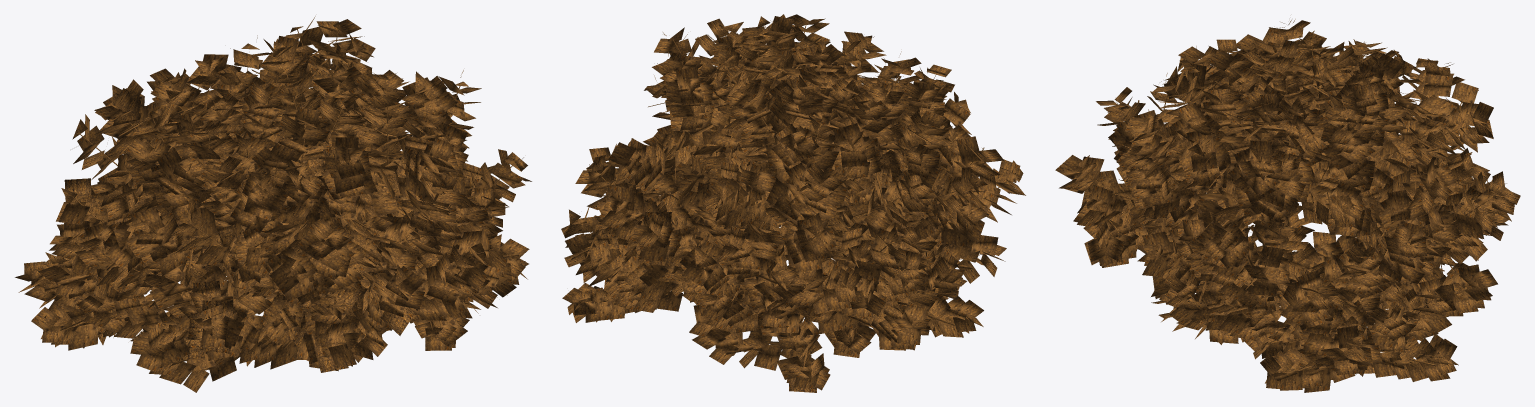
The model's file is Orange tree.glb.
3 views of the same model, side by side, from view 1: azimuth 30°, elevation 25°; view 2: azimuth 150°, elevation 25°; view 3: azimuth 270°, elevation 25° (orthographic). The views are drawn at different scales.
Parts seen in each view (by area): view 1: Choisya_ternata_HD; view 2: Choisya_ternata_HD; view 3: Choisya_ternata_HD.
Part boxes in pixels (x1,y1,x2,y2): Choisya_ternata_HD: (15,16,531,392); Choisya_ternata_HD: (561,14,1025,392); Choisya_ternata_HD: (1055,19,1520,392).
Size of the model in its own units: 2.04 by 1.27 by 1.94.
1 material, 1 textured.
